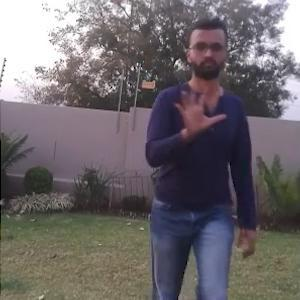follow_hand: (168, 81, 230, 135)
